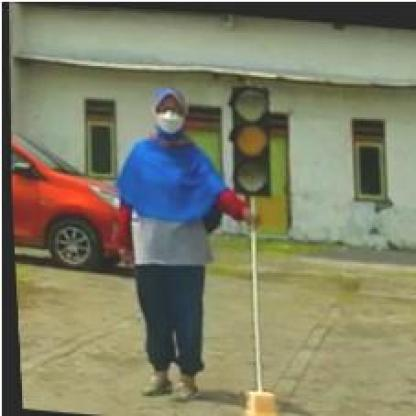yellow: (224, 80, 274, 195)
